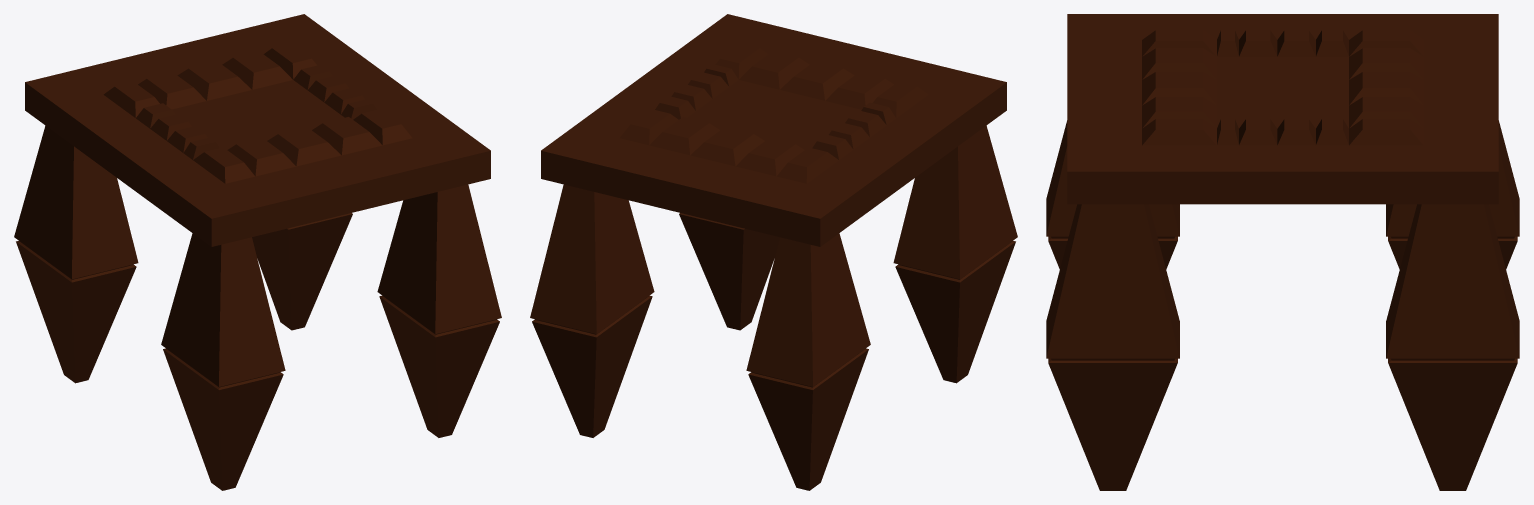
Rendered from Table3.fbx.
3 renders of one model, left to right at view 1: azimuth 30°, elevation 25°; view 2: azimuth 150°, elevation 25°; view 3: azimuth 270°, elevation 25°, orthographic. The views are drawn at different scales.
Visible parts, largest first — view 1: Cube.091; view 2: Cube.091; view 3: Cube.091.
Boxes of the visible parts, x1,y1,x2,y2 form: Cube.091: [14, 14, 501, 490]; Cube.091: [530, 14, 1017, 490]; Cube.091: [1046, 14, 1519, 490].
Size of the model in its own units: 83.92 by 84.89 by 105.
